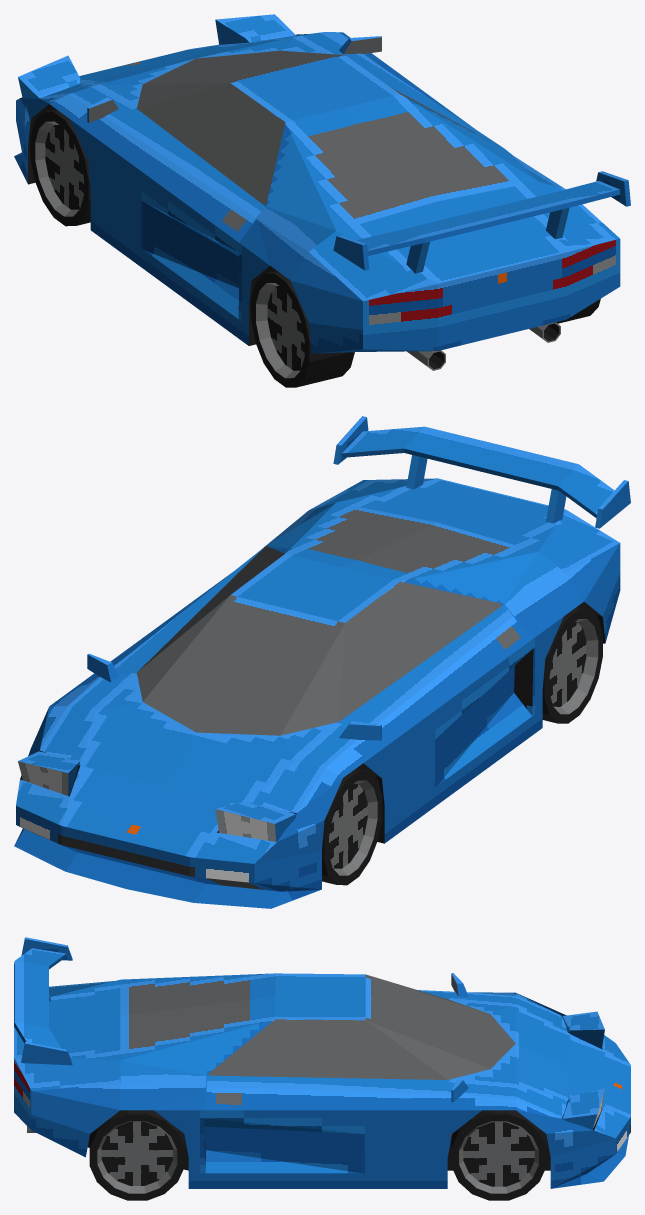
The model's file is supercar.gltf.
3 renders of one model, top to bottom at view 1: azimuth 30°, elevation 25°; view 2: azimuth 150°, elevation 25°; view 3: azimuth 270°, elevation 25°, orthographic. The views are drawn at different scales.
Visible parts, largest first — view 1: car_body, spoiler, rear_left_wheel, front_left_wheel, lights, right_sidemirror; view 2: car_body, spoiler, front_left_wheel, rear_left_wheel, lights; view 3: car_body, rear_right_wheel, front_right_wheel, spoiler, lights.
Part boxes in pixels (x1,y1,x2,y2): car_body: (14, 32, 620, 353); spoiler: (333, 171, 630, 273); rear_left_wheel: (251, 270, 354, 387); front_left_wheel: (30, 109, 90, 226); lights: (18, 14, 295, 98); right_sidemirror: (339, 36, 381, 54); car_body: (14, 478, 620, 908); spoiler: (333, 416, 630, 528); front_left_wheel: (322, 768, 382, 885); rear_left_wheel: (542, 606, 602, 723); lights: (18, 751, 296, 841); car_body: (14, 973, 630, 1188); rear_right_wheel: (89, 1110, 185, 1200); front_right_wheel: (451, 1110, 546, 1200); spoiler: (14, 937, 72, 1065); lights: (561, 1011, 604, 1129).
Bounding box in the file's own units: 1 × 0.6016 × 2.22.
Materials: 1 (1 with a texture image).
